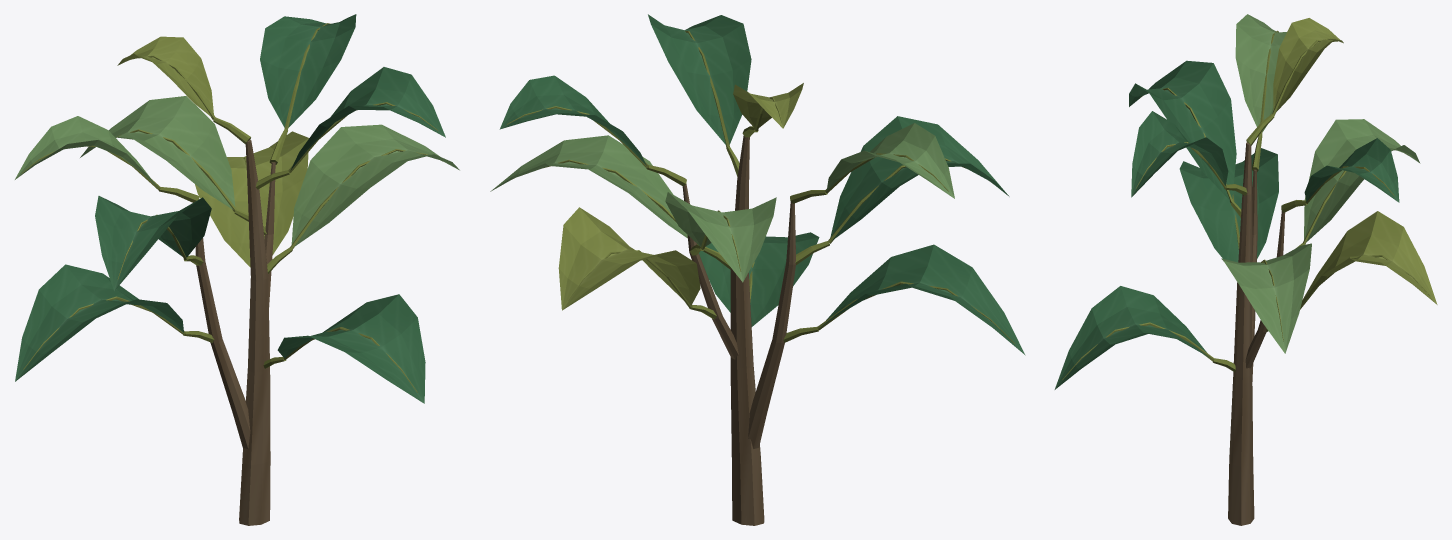
The model's file is AST-BOT-002.glb.
3 renders of one model, left to right at view 1: azimuth 30°, elevation 25°; view 2: azimuth 150°, elevation 25°; view 3: azimuth 270°, elevation 25°, orthographic. The views are drawn at different scales.
Visible parts, largest first — view 1: AST-BOT-002__botanical_leaf_jade, AST-BOT-002__botanical_leaf_sage, AST-BOT-002__botanical_leaf_olive, AST-BOT-002__botanical_bark; view 2: AST-BOT-002__botanical_leaf_jade, AST-BOT-002__botanical_leaf_sage, AST-BOT-002__botanical_leaf_olive, AST-BOT-002__botanical_bark; view 3: AST-BOT-002__botanical_leaf_jade, AST-BOT-002__botanical_leaf_sage, AST-BOT-002__botanical_leaf_olive, AST-BOT-002__botanical_bark.
Boxes of the visible parts, x1=… form: AST-BOT-002__botanical_leaf_jade: x1=15, y1=14, x2=445, y2=403; AST-BOT-002__botanical_leaf_sage: x1=15, y1=96, x2=459, y2=246; AST-BOT-002__botanical_leaf_olive: x1=21, y1=23, x2=442, y2=392; AST-BOT-002__botanical_bark: x1=195, y1=140, x2=275, y2=525; AST-BOT-002__botanical_leaf_jade: x1=499, y1=14, x2=1025, y2=355; AST-BOT-002__botanical_leaf_sage: x1=490, y1=123, x2=954, y2=282; AST-BOT-002__botanical_leaf_olive: x1=507, y1=31, x2=1014, y2=343; AST-BOT-002__botanical_bark: x1=682, y1=135, x2=795, y2=525; AST-BOT-002__botanical_leaf_jade: x1=1054, y1=60, x2=1399, y2=389; AST-BOT-002__botanical_leaf_sage: x1=1221, y1=14, x2=1420, y2=353; AST-BOT-002__botanical_leaf_olive: x1=1062, y1=18, x2=1437, y2=379; AST-BOT-002__botanical_bark: x1=1228, y1=142, x2=1285, y2=525.
Bounding box in the file's own units: 1.01 × 0.926 × 0.7008.
Materials: 4 (4 with a texture image).
